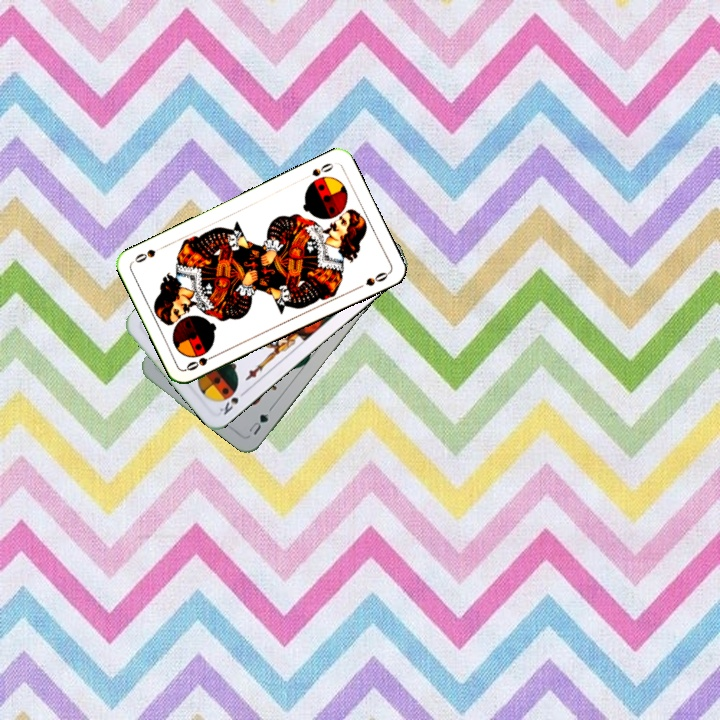GU: (245, 409, 271, 438)
SK: (215, 386, 250, 418)
SO: (182, 349, 220, 373), (299, 159, 336, 182)
